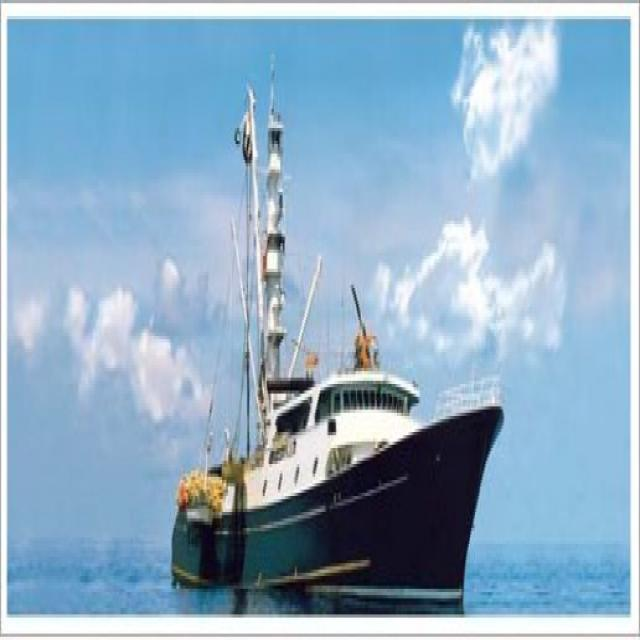Ship: (161, 46, 511, 632)
